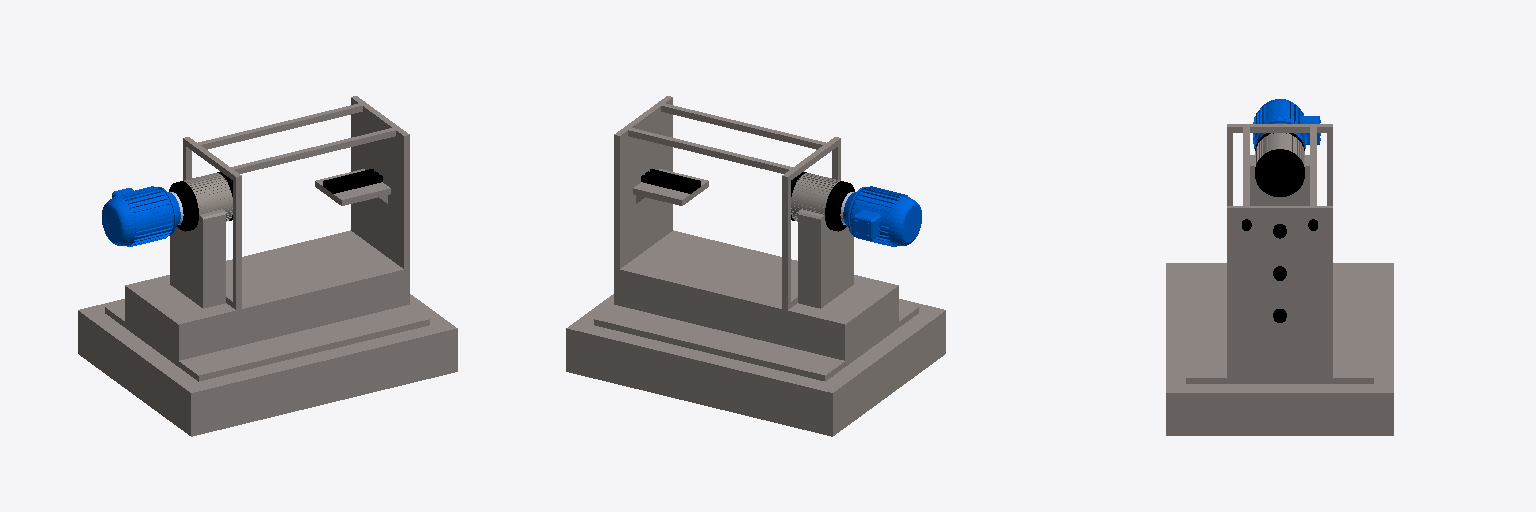
The model's file is Riveting_Static.obj.
3 views of the same model, side by side, from view 1: azimuth 30°, elevation 25°; view 2: azimuth 150°, elevation 25°; view 3: azimuth 270°, elevation 25° (orthographic).
Parts seen in each view (by area): view 1: Estrusione_Estrusione23, Smusso6, Estrusione_Estrusione11, RipetizioneCircolare2, Taglio_Estrusione_Sottile1, Estrusione_Estrusione6; view 2: Estrusione_Estrusione23, Smusso6, Estrusione_Estrusione11, RipetizioneCircolare2, Taglio_Estrusione_Sottile1, Estrusione_Estrusione6; view 3: Estrusione_Estrusione23, Estrusione_Estrusione3, Estrusione_Estrusione11, Smusso6, RipetizioneCircolare2.
Part boxes in pixels (left/top/right/bottom): Estrusione_Estrusione23: left=78, top=96, right=457, bottom=436; Smusso6: left=170, top=209, right=225, bottom=308; Estrusione_Estrusione11: left=102, top=186, right=180, bottom=246; RipetizioneCircolare2: left=184, top=173, right=232, bottom=221; Taglio_Estrusione_Sottile1: left=323, top=169, right=382, bottom=193; Estrusione_Estrusione6: left=169, top=181, right=198, bottom=231; Estrusione_Estrusione23: left=566, top=96, right=945, bottom=436; Smusso6: left=798, top=209, right=853, bottom=308; Estrusione_Estrusione11: left=843, top=186, right=921, bottom=246; RipetizioneCircolare2: left=791, top=173, right=839, bottom=221; Taglio_Estrusione_Sottile1: left=641, top=169, right=700, bottom=193; Estrusione_Estrusione6: left=825, top=181, right=854, bottom=231; Estrusione_Estrusione23: left=1166, top=124, right=1393, bottom=435; Estrusione_Estrusione3: left=1255, top=149, right=1304, bottom=196; Estrusione_Estrusione11: left=1253, top=99, right=1320, bottom=148; Smusso6: left=1250, top=155, right=1309, bottom=205; RipetizioneCircolare2: left=1255, top=133, right=1304, bottom=166.
Size of the model in its own units: 500 by 362 by 340.